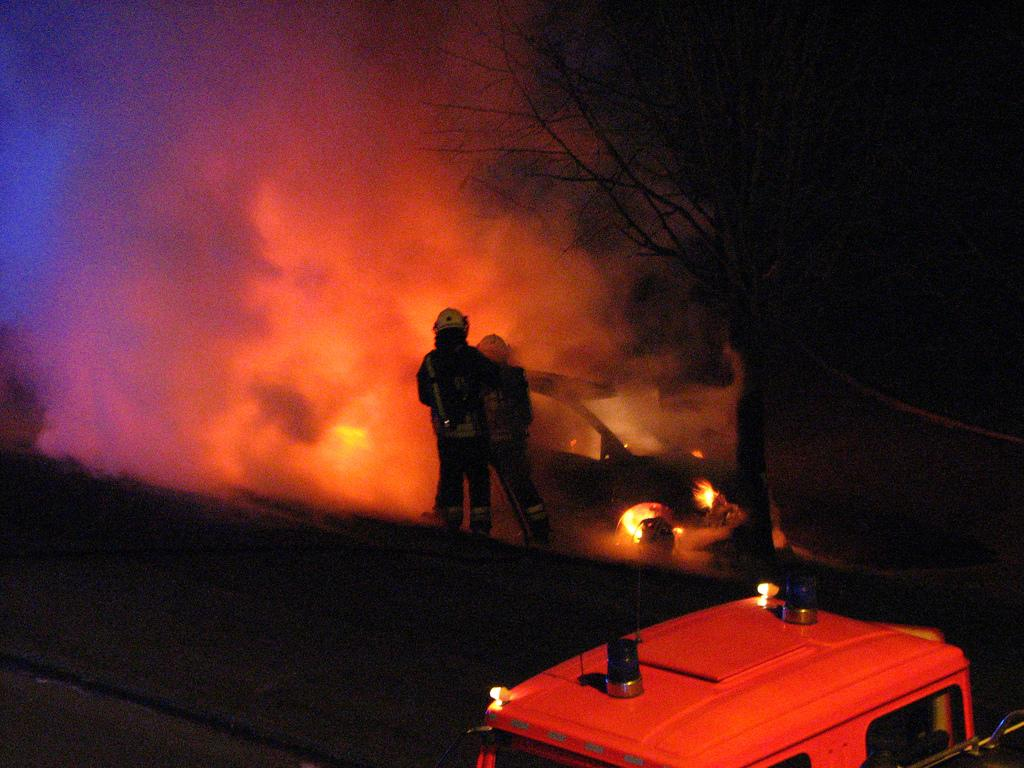fire: (618, 492, 654, 544), (694, 474, 718, 504)
smoke: (150, 40, 388, 374)
